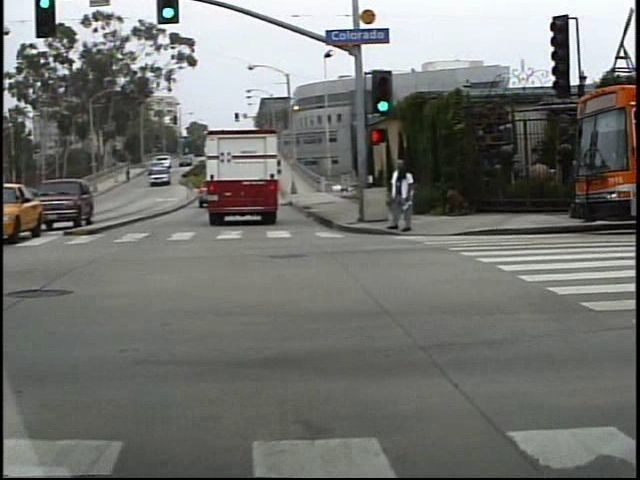person: (391, 157, 420, 237)
